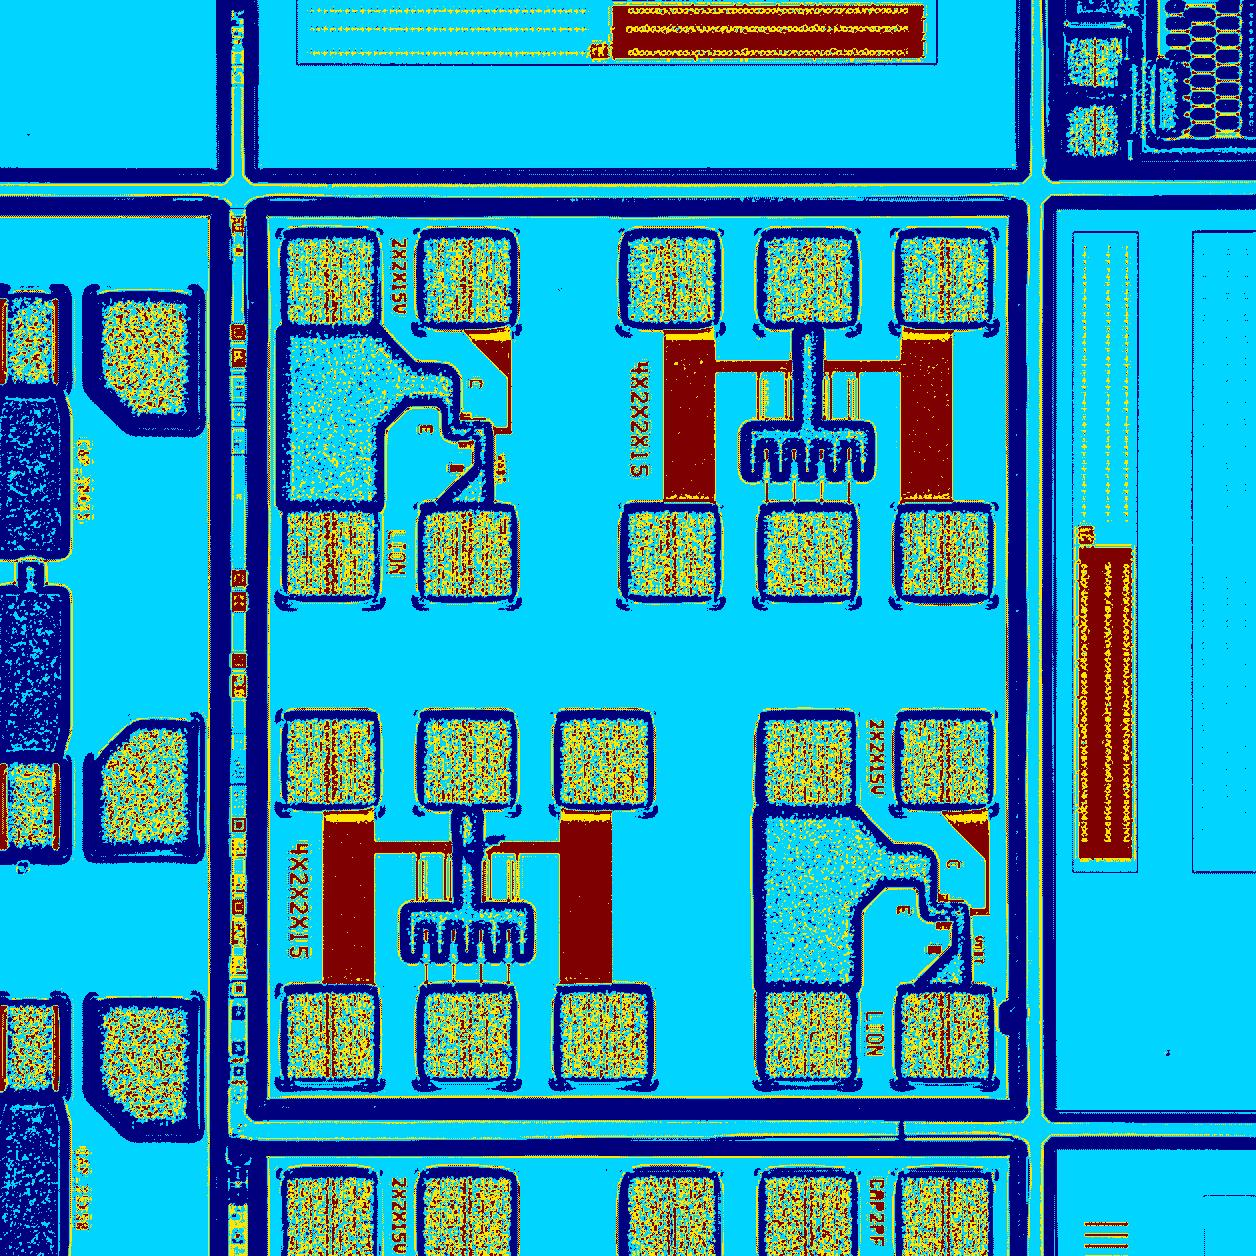Die: (246, 197, 1026, 1121)
Pad 3: (286, 510, 375, 598), (765, 720, 852, 806), (288, 238, 374, 324), (423, 512, 512, 596), (901, 994, 989, 1078), (424, 993, 511, 1078), (561, 991, 646, 1078), (766, 991, 851, 1078), (764, 512, 851, 596), (423, 238, 511, 322), (901, 238, 988, 322), (424, 720, 512, 804), (628, 512, 715, 596), (628, 238, 714, 322), (561, 720, 648, 804), (288, 720, 374, 804), (288, 994, 374, 1078), (902, 512, 988, 595), (901, 721, 988, 803), (767, 239, 852, 322)
